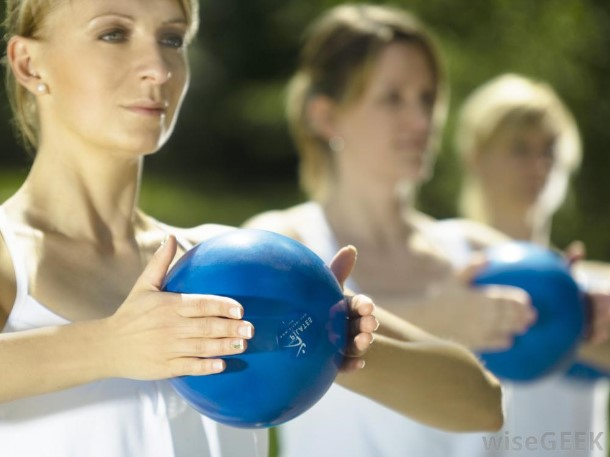blue ball: (162, 227, 349, 429), (465, 241, 589, 384)
